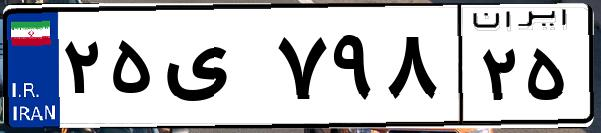2: (57, 26, 110, 100), (475, 38, 525, 113)
5: (525, 38, 570, 115), (110, 28, 158, 98)
7: (270, 28, 330, 110)
8: (385, 28, 445, 110)
9: (330, 28, 385, 110)
ی: (158, 20, 270, 120)
